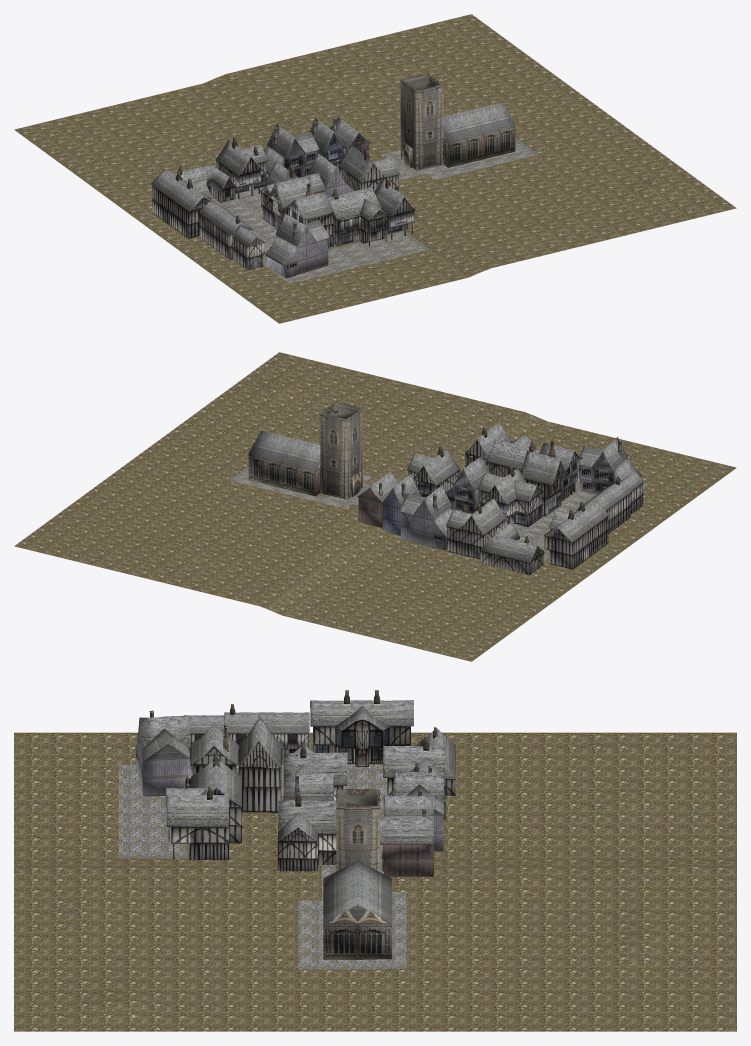
The model's file is medscene_fbx.fbx.
3 renders of one model, top to bottom at view 1: azimuth 30°, elevation 25°; view 2: azimuth 150°, elevation 25°; view 3: azimuth 270°, elevation 25°, orthographic. The views are drawn at different scales.
Visible parts, largest first — view 1: U3DMesh; view 2: U3DMesh; view 3: U3DMesh.
Part boxes in pixels (x1,y1,x2,y2): U3DMesh: [14, 14, 736, 323]; U3DMesh: [14, 352, 736, 661]; U3DMesh: [14, 690, 736, 1031].
Bounding box in the file's own units: 4261 × 740 × 4277.
Materials: 4 (4 with a texture image).
